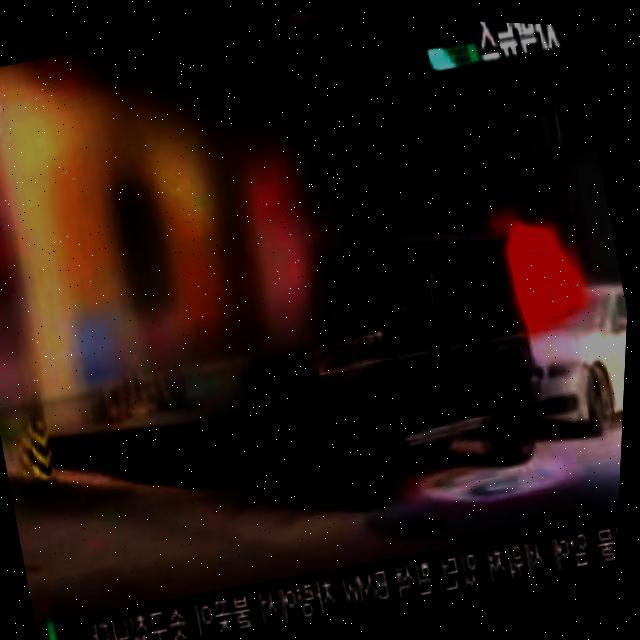Fire: (504, 240, 572, 322)
